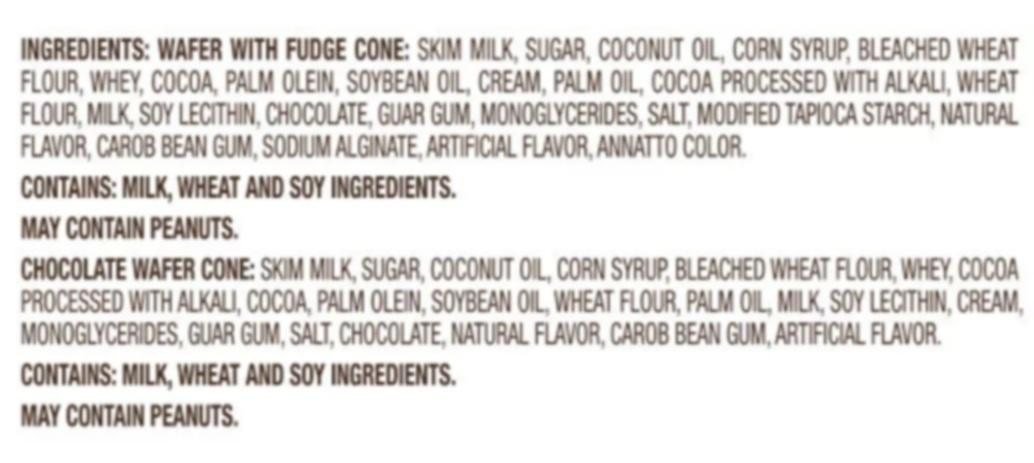ingredients: (15, 26, 1026, 439)
